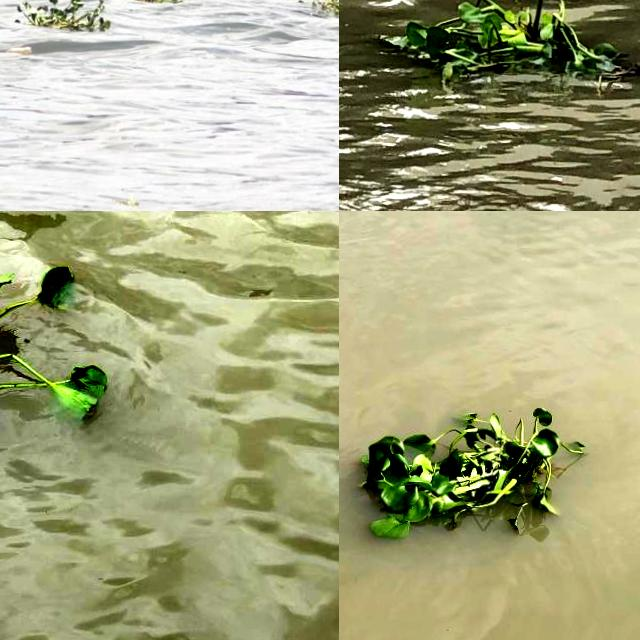water-hyacinth: (345, 406, 583, 550), (1, 252, 166, 455), (378, 1, 633, 96), (19, 1, 111, 32), (340, 212, 433, 231)
